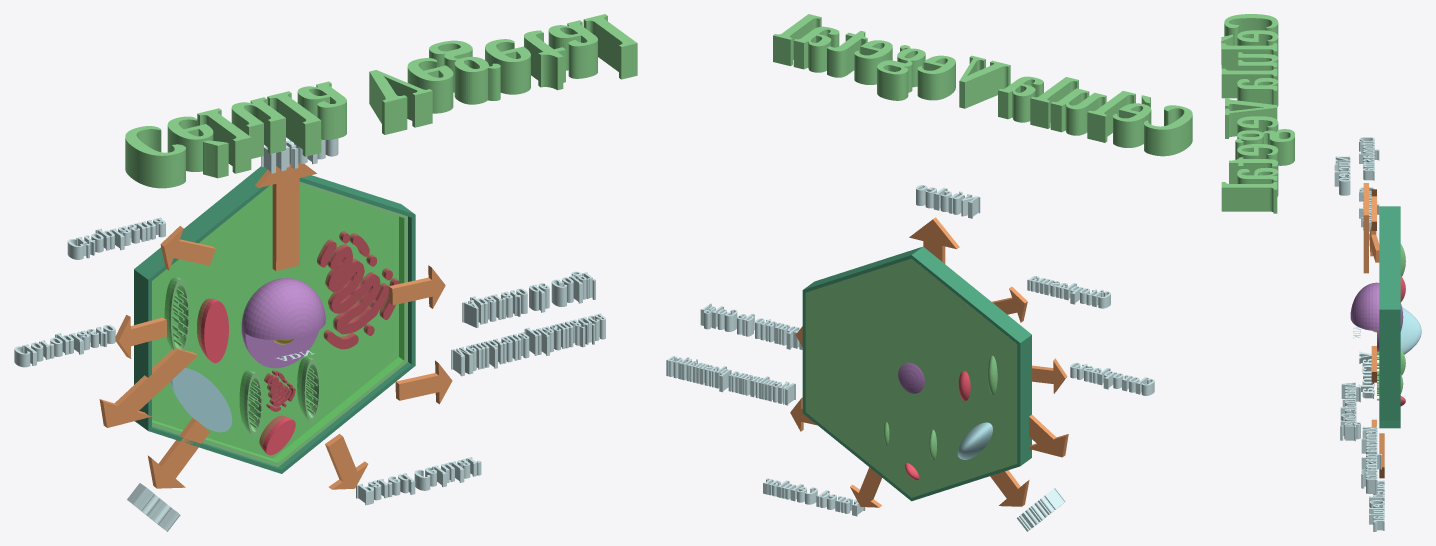
The model's file is Celula Vegetal.glb.
The picture shows the model from 3 angles, left to right: view 1: azimuth 30°, elevation 25°; view 2: azimuth 150°, elevation 25°; view 3: azimuth 270°, elevation 25°; orthographic projection. The views are drawn at different scales.
Visible parts, largest first — view 1: Mesh0_11, Node11, Node1, Mesh0_12, Mesh0_8, Node6, Node16, Node25, Node19, Node27, Node14, Node5 (+16 smaller); view 2: Mesh0_11, Node1, Mesh0_12, Node16, Node25, Node14, Node26, Node20, Node18, Node19, Node27, Node22 (+5 smaller); view 3: Node1, Mesh0_12, Mesh0_8, Node16, Node25, Node5, Node18, Node14, Node20, Node22, Node19, Node26 (+2 smaller).
Boxes of the visible parts, x1,y1,x2,y2 form: Mesh0_11: (152, 182, 407, 466); Node11: (152, 185, 403, 462); Node1: (125, 14, 637, 188); Mesh0_12: (134, 166, 415, 473); Mesh0_8: (241, 278, 325, 368); Node6: (317, 231, 400, 349); Node16: (451, 313, 605, 376); Node25: (462, 271, 595, 327); Node19: (255, 163, 316, 271); Node27: (99, 347, 197, 427); Node14: (356, 457, 481, 505); Node5: (170, 368, 232, 432); Mesh0_11: (805, 258, 1017, 497); Node1: (773, 14, 1192, 156); Mesh0_12: (802, 246, 1031, 501); Node16: (666, 356, 795, 405); Node25: (700, 303, 802, 349); Node14: (763, 478, 865, 516); Node26: (1070, 362, 1154, 395); Node20: (916, 185, 980, 218); Node18: (1027, 276, 1110, 308); Node19: (909, 217, 959, 263); Node27: (1029, 415, 1068, 457); Node22: (1017, 488, 1065, 531); Node1: (1221, 14, 1294, 213); Mesh0_12: (1379, 206, 1400, 428); Mesh0_8: (1350, 282, 1403, 351); Node16: (1361, 426, 1381, 494); Node25: (1340, 382, 1360, 441); Node5: (1400, 307, 1421, 354); Node18: (1359, 137, 1379, 180); Node14: (1369, 480, 1384, 531); Node20: (1334, 156, 1350, 195); Node22: (1358, 351, 1374, 398); Node19: (1363, 183, 1368, 273); Node26: (1359, 187, 1379, 231).
Size of the model in its own units: 190 by 152 by 76.
